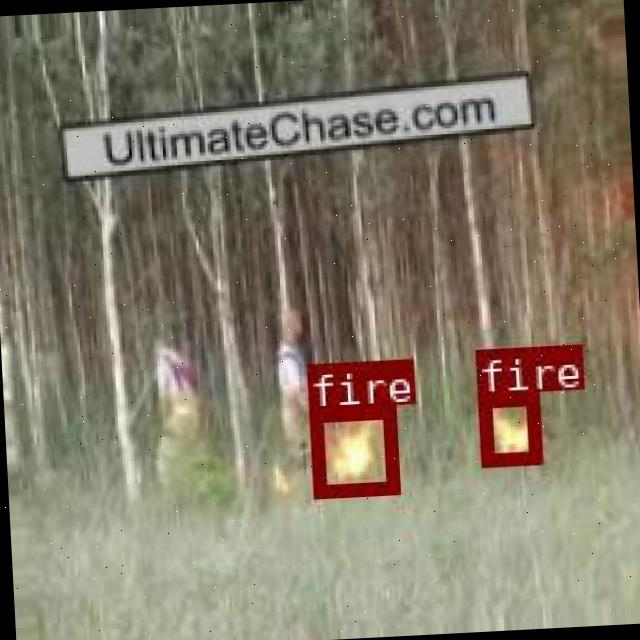fire: (308, 404, 398, 494), (475, 392, 541, 465)
